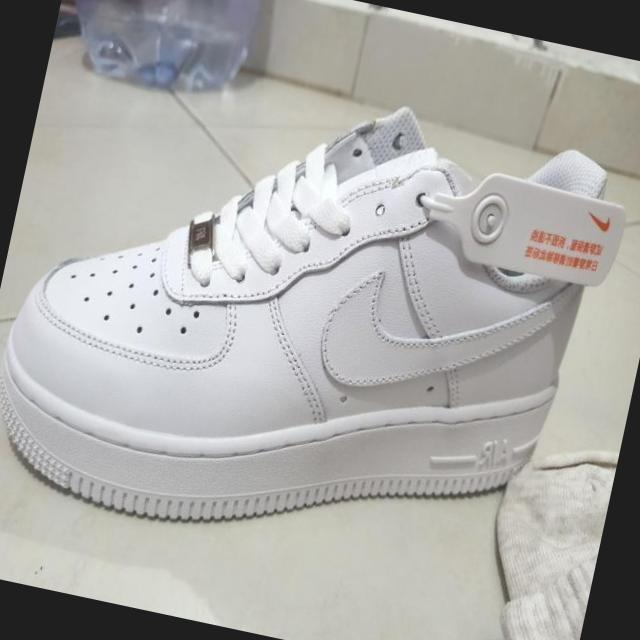nike_original_airforce: (0, 35, 619, 599)
